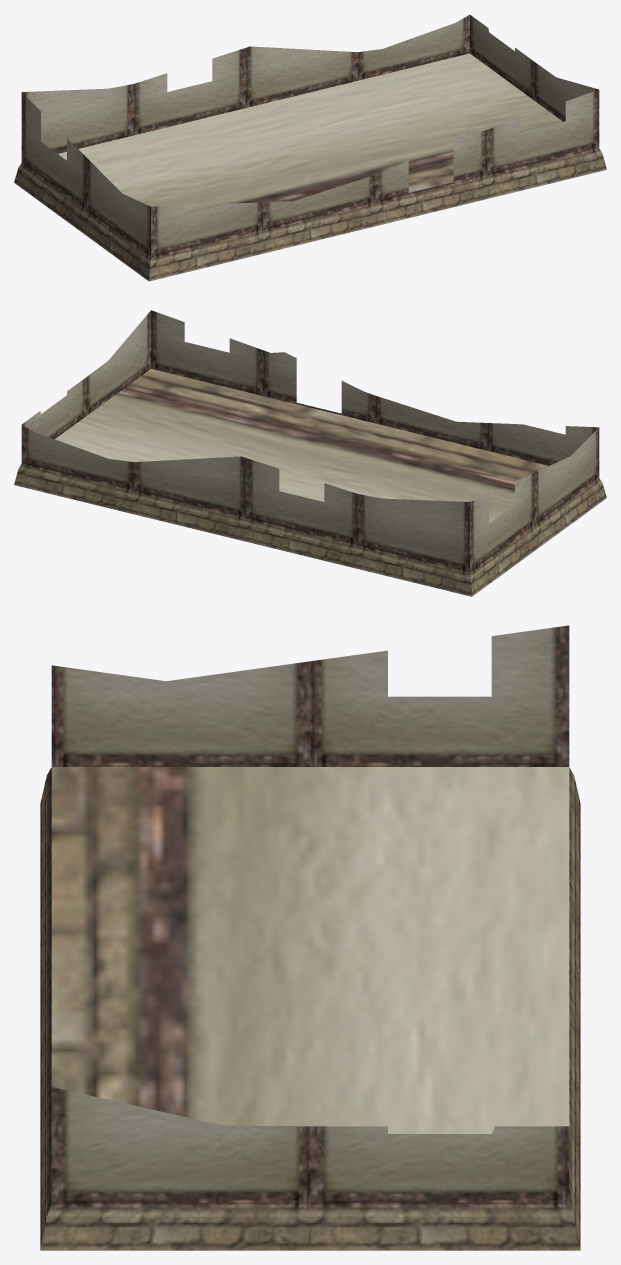
The model's file is s44_b_house_4_2_destroyed_2.dae.
The picture shows the model from 3 angles, top to bottom: view 1: azimuth 30°, elevation 25°; view 2: azimuth 150°, elevation 25°; view 3: azimuth 270°, elevation 25°; orthographic projection. The views are drawn at different scales.
Visible parts, largest first — view 1: Untitled; view 2: Untitled; view 3: Untitled.
Boxes of the visible parts, box(x1,y1,x2,y2) form: Untitled: box(14, 14, 606, 281); Untitled: box(14, 310, 606, 596); Untitled: box(40, 625, 580, 1250).
Size of the model in its own units: 98.11 by 50.11 by 18.73.
Materials: 1 (1 with a texture image).
